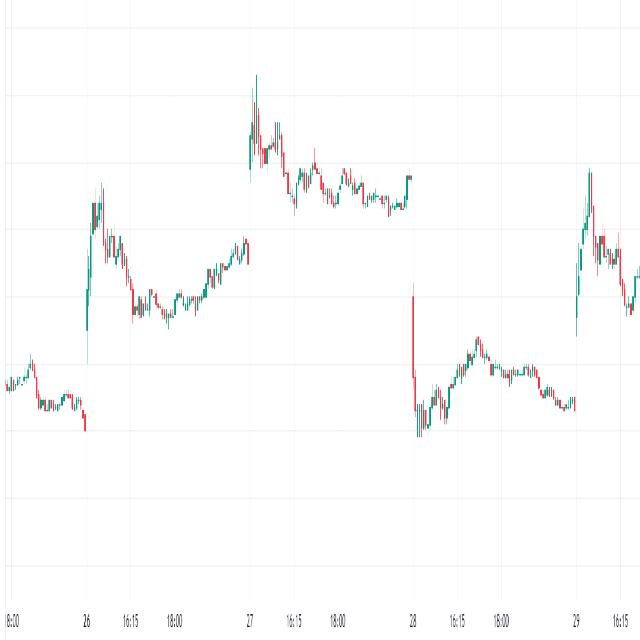Descending-Triangle: (247, 97, 439, 219)
Rounding-Bottom: (117, 225, 237, 332)
